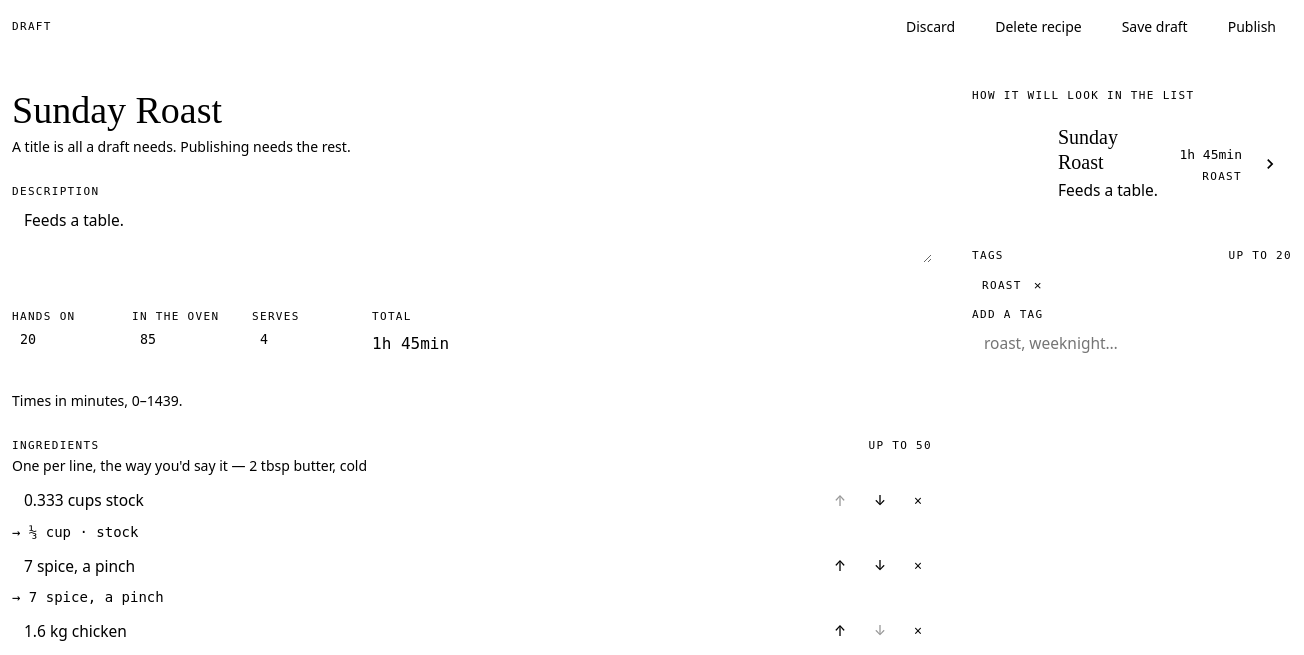
RecipeFormPage — existing recipe › publishes a draft by saving first; a refused publish leaves it saved with every gap marked
Click the button "Publish" at (1252, 27), box left=1212, top=12, right=1292, bottom=42
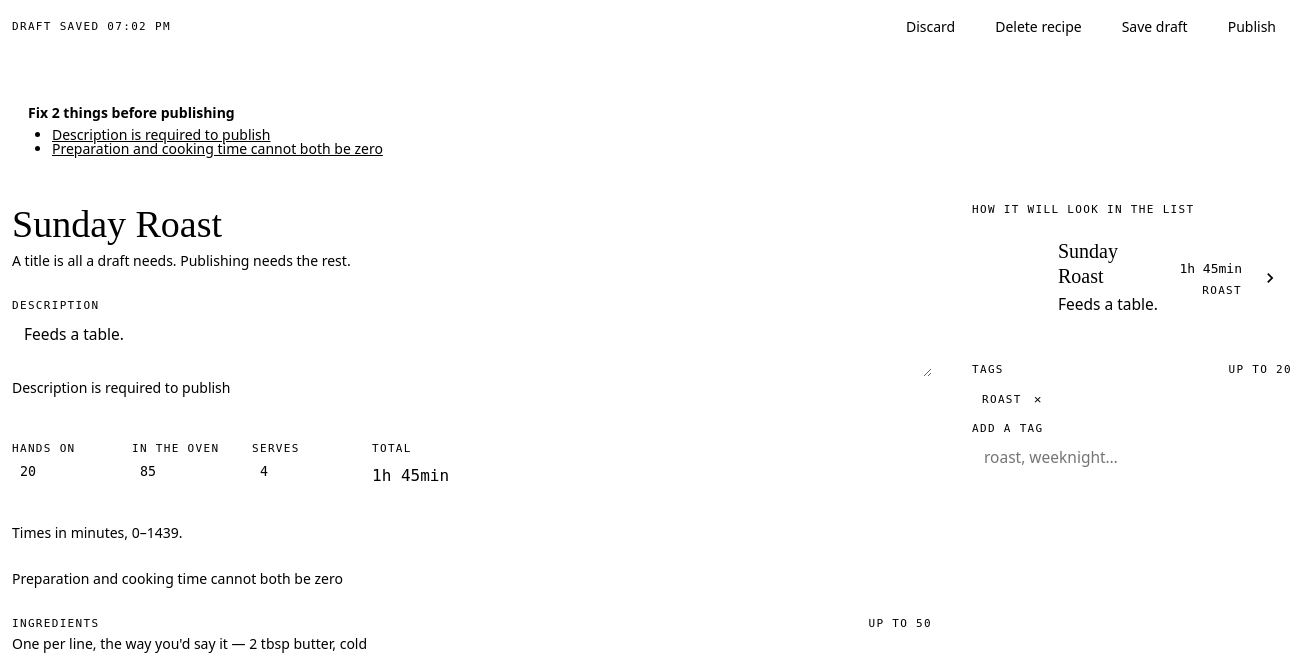
Now the link "Description is required to publish" is shown, box left=52, top=125, right=270, bottom=144
Now the number of links "Preparation and cooking time cannot both be zero" is 2, box left=52, top=139, right=383, bottom=158; left=12, top=569, right=343, bottom=588
Now the text "Draft saved 07:02 PM" is shown, box left=12, top=22, right=171, bottom=32
